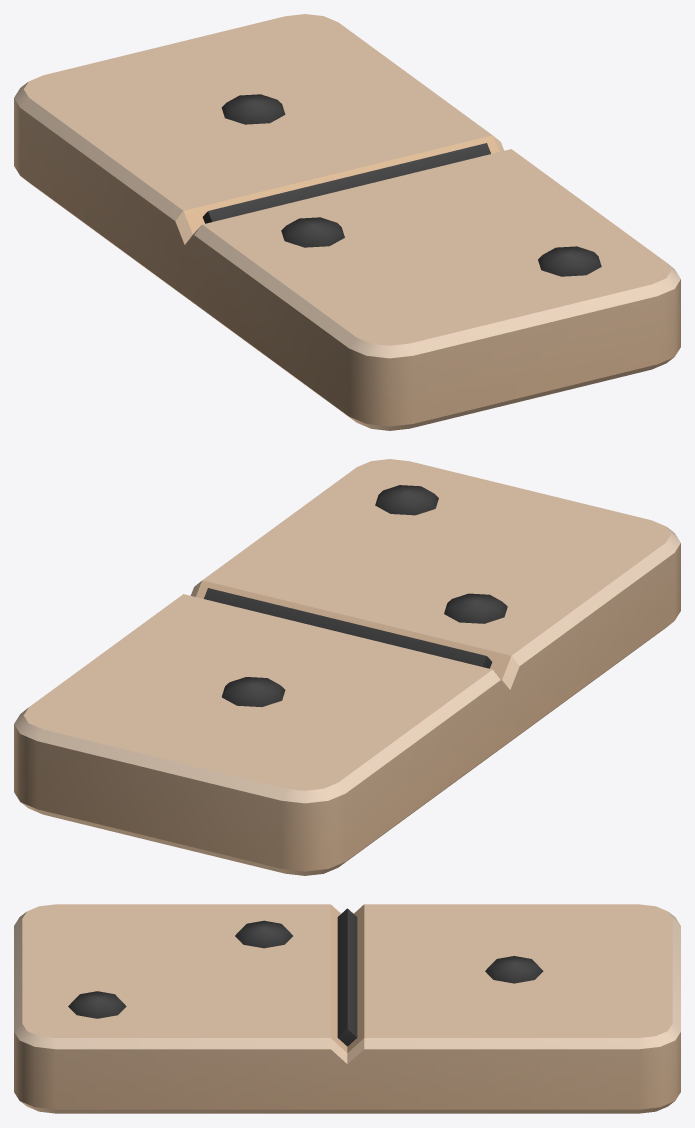
File: domino_tile_1-2.obj
3 renders of one model, top to bottom at view 1: azimuth 30°, elevation 25°; view 2: azimuth 150°, elevation 25°; view 3: azimuth 270°, elevation 25°, orthographic. The views are drawn at different scales.
Parts seen in each view (by area): view 1: domino_tile_1-2; view 2: domino_tile_1-2; view 3: domino_tile_1-2.
Part boxes in pixels (x1,y1,x2,y2): domino_tile_1-2: (14,14,680,430); domino_tile_1-2: (14,459,680,875); domino_tile_1-2: (14,904,680,1113).
Size of the model in its own units: 1 by 0.2767 by 2.
1 material, 1 textured.
